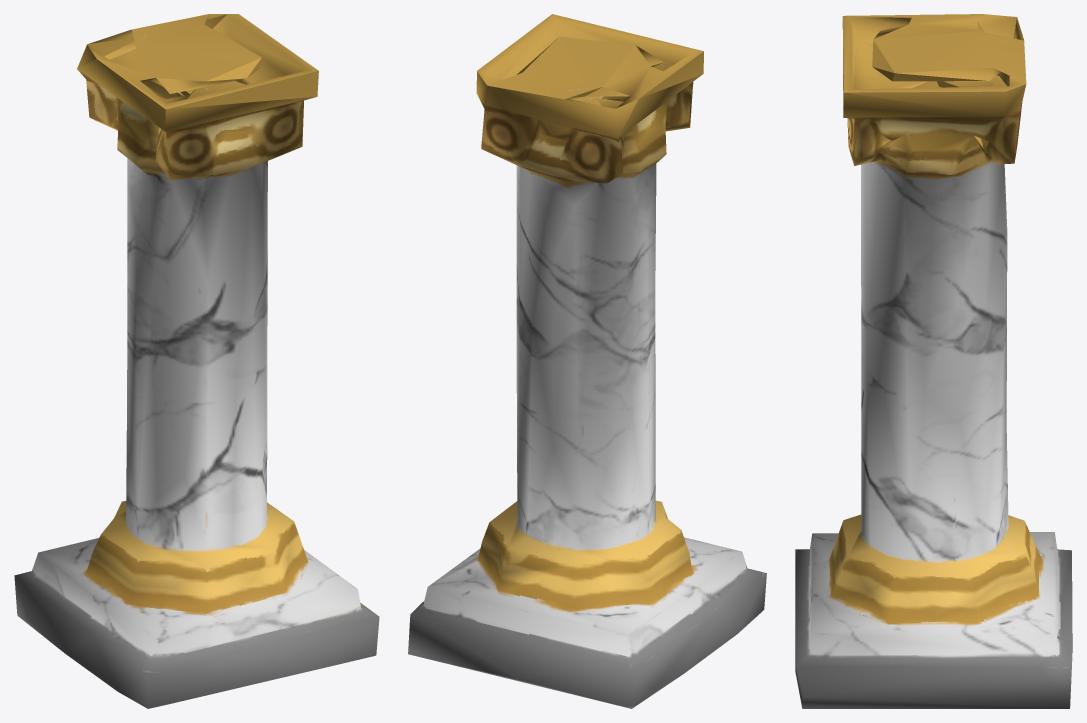
Rendered from marble-column.glb.
The picture shows the model from 3 angles, left to right: view 1: azimuth 30°, elevation 25°; view 2: azimuth 150°, elevation 25°; view 3: azimuth 270°, elevation 25°; orthographic projection. The views are drawn at different scales.
Visible parts, largest first — view 1: geometry_0.001; view 2: geometry_0.001; view 3: geometry_0.001.
Part boxes in pixels (<box>): geometry_0.001: <box>14,14,379,708</box>; geometry_0.001: <box>408,14,766,708</box>; geometry_0.001: <box>795,14,1072,708</box>.
Size of the model in its own units: 0.4211 by 0.9996 by 0.4175.
1 material, 1 textured.
